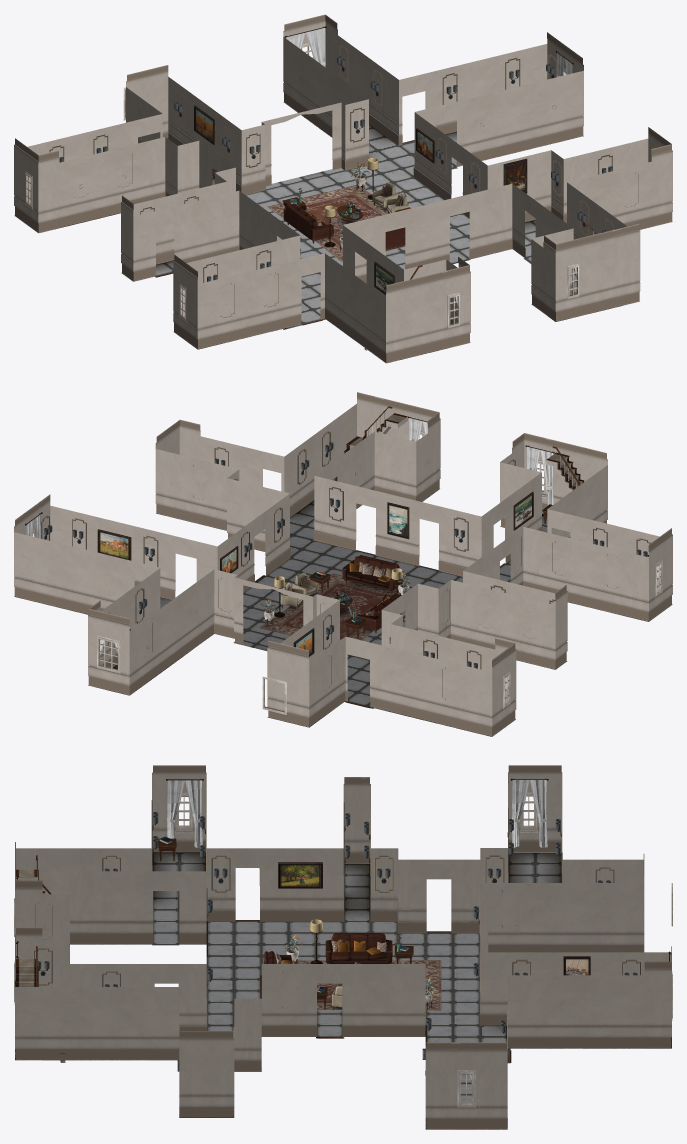
Rendered from corridor.obj.
3 views of the same model, one above another, from view 1: azimuth 30°, elevation 25°; view 2: azimuth 150°, elevation 25°; view 3: azimuth 270°, elevation 25° (orthographic). The views are drawn at different scales.
Visible parts, largest first — view 1: corridor_walls_8842, corridor_props_57471, corridor_lamps_6192; view 2: corridor_walls_8842, corridor_props_57471, corridor_lamps_6192; view 3: corridor_walls_8842, corridor_props_57471, corridor_lamps_6192.
Boxes of the visible parts, box(x1,y1,x2,y2) form: corridor_walls_8842: box(14, 14, 672, 363); corridor_props_57471: box(25, 26, 628, 358); corridor_lamps_6192: box(59, 56, 612, 281); corridor_walls_8842: box(14, 392, 672, 736); corridor_props_57471: box(25, 406, 662, 714); corridor_lamps_6192: box(44, 442, 647, 668); corridor_walls_8842: box(15, 765, 671, 1129); corridor_props_57471: box(14, 778, 672, 1109); corridor_lamps_6192: box(38, 812, 637, 1032).
Bounding box in the file's own units: 24.08 × 3.72 × 24.07.
